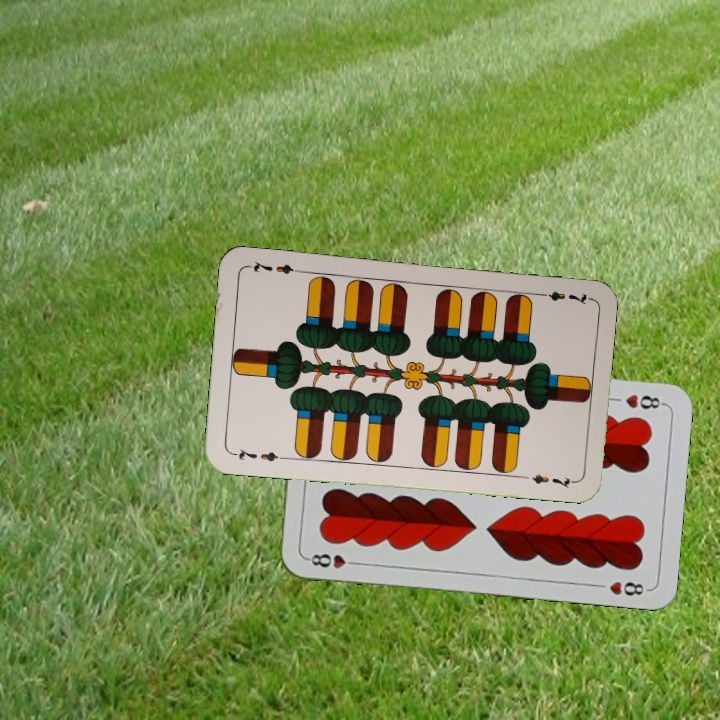E7: (532, 287, 591, 308), (228, 445, 287, 465)
H8: (303, 549, 362, 571), (621, 390, 667, 412)
